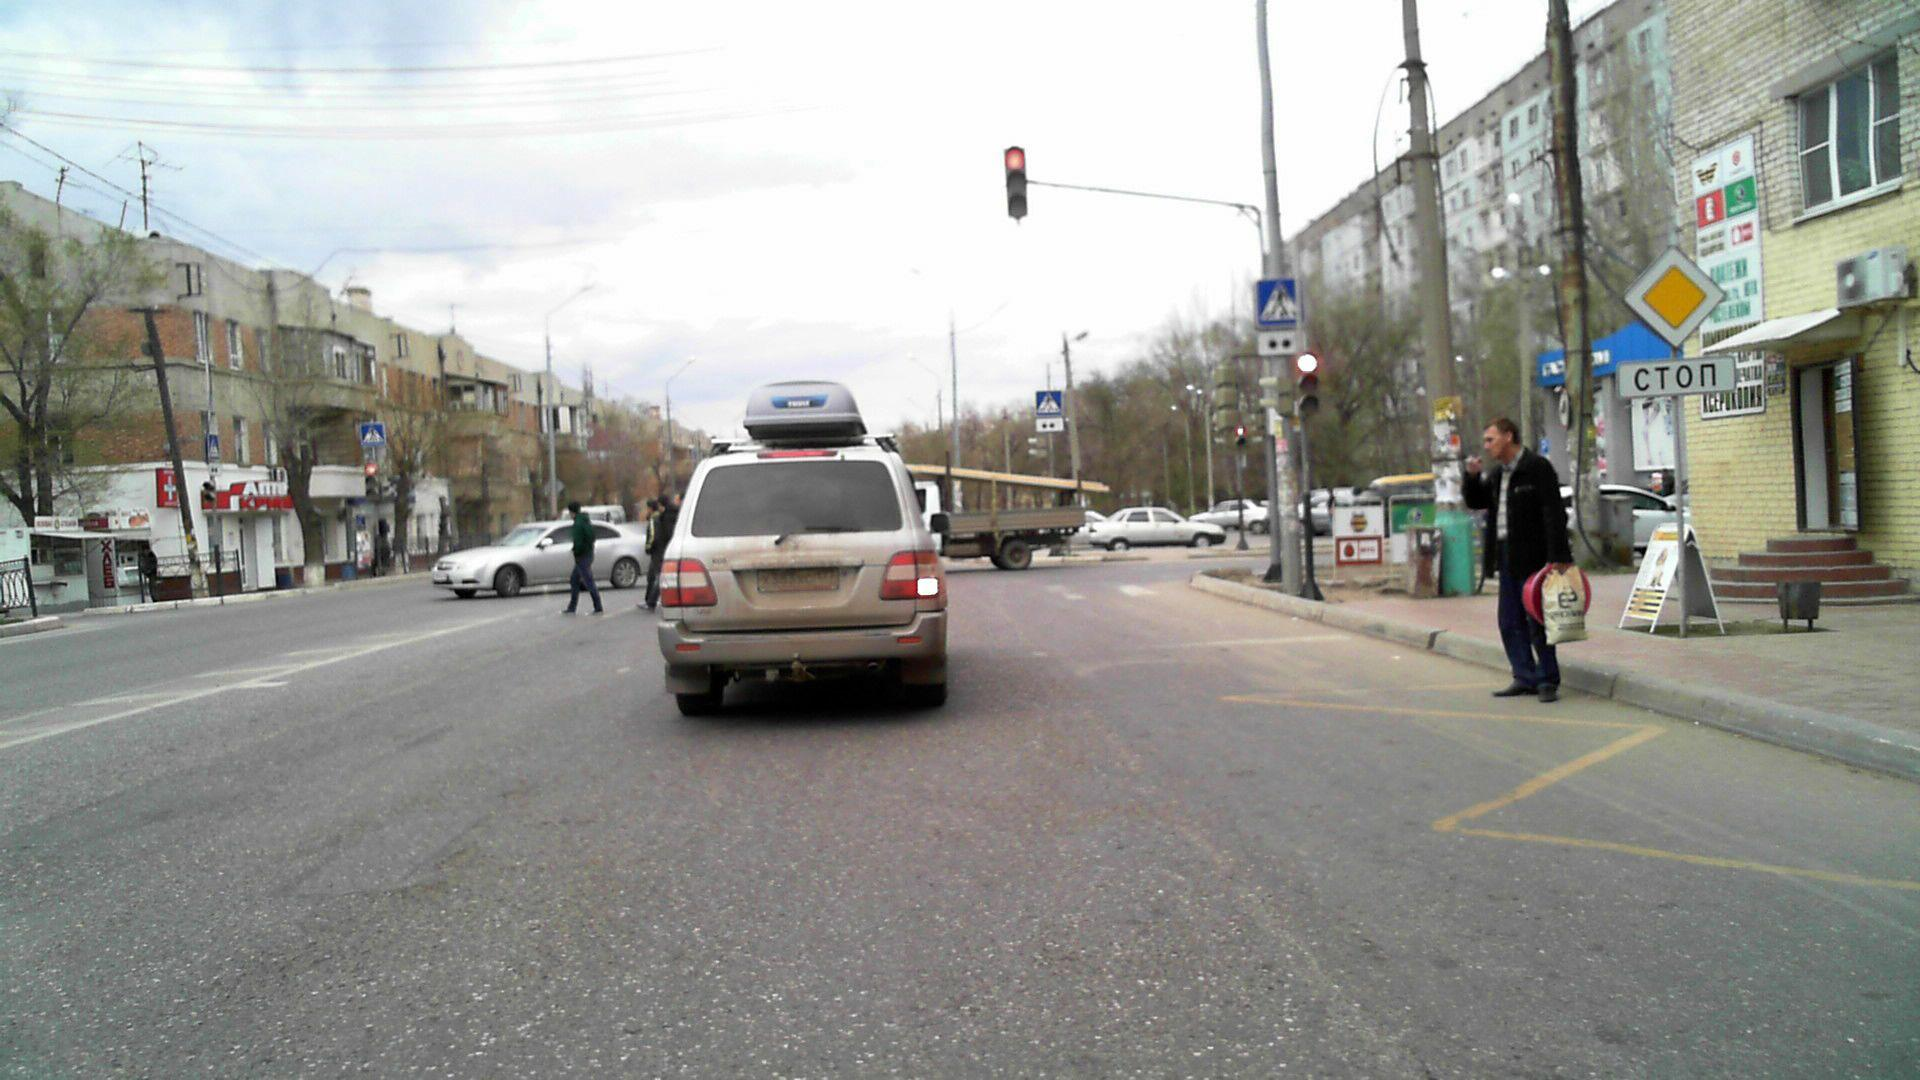2_1: (1619, 240, 1727, 348)
5_19_1: (1253, 274, 1307, 326), (1036, 389, 1064, 415)
5_19_2: (357, 421, 386, 447), (204, 434, 222, 458)
6_16: (1613, 356, 1735, 396)
8_15: (1254, 328, 1302, 353), (1036, 417, 1065, 433), (206, 464, 222, 476)
